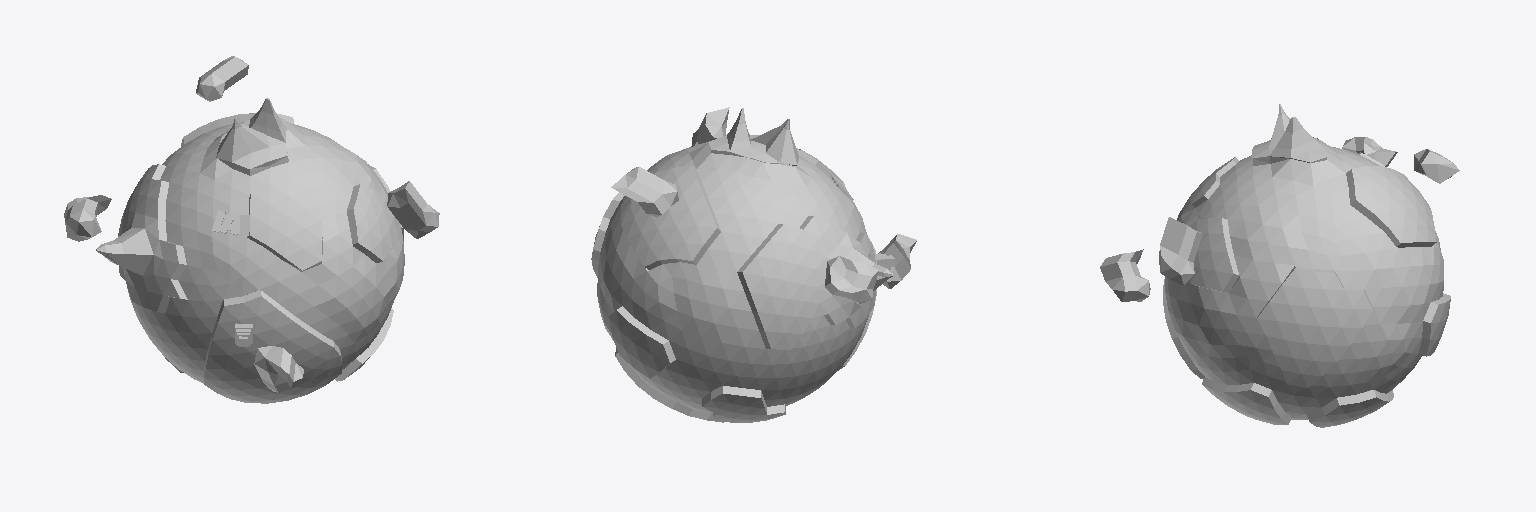
Rendered from earth.obj.
The picture shows the model from 3 angles: view 1: azimuth 30°, elevation 25°; view 2: azimuth 150°, elevation 25°; view 3: azimuth 270°, elevation 25°; orthographic projection.
Parts seen in each view (by area): view 1: Icosphere, Icosphere.004_Icosphere.005, Icosphere.003_Icosphere.004, Icosphere.002_Icosphere.003, Icosphere.001_Icosphere.002, Cube_Cube.003; view 2: Icosphere, Icosphere.001_Icosphere.002, Icosphere.002_Icosphere.003, Icosphere.003_Icosphere.004, Icosphere.004_Icosphere.005; view 3: Icosphere, Icosphere.004_Icosphere.005, Icosphere.003_Icosphere.004, Icosphere.001_Icosphere.002, Icosphere.002_Icosphere.003.
Boxes of the visible parts, x1,y1,x2,y2 form: Icosphere: [96, 98, 404, 403]; Icosphere.004_Icosphere.005: [387, 181, 439, 238]; Icosphere.003_Icosphere.004: [254, 346, 303, 392]; Icosphere.002_Icosphere.003: [64, 195, 111, 241]; Icosphere.001_Icosphere.002: [196, 56, 248, 101]; Cube_Cube.003: [212, 210, 249, 236]; Icosphere: [591, 108, 893, 422]; Icosphere.001_Icosphere.002: [611, 167, 678, 217]; Icosphere.002_Icosphere.003: [825, 256, 878, 304]; Icosphere.003_Icosphere.004: [878, 233, 916, 288]; Icosphere.004_Icosphere.005: [691, 107, 729, 146]; Icosphere: [1163, 104, 1450, 427]; Icosphere.004_Icosphere.005: [1159, 217, 1202, 284]; Icosphere.003_Icosphere.004: [1100, 249, 1150, 301]; Icosphere.001_Icosphere.002: [1414, 149, 1459, 183]; Icosphere.002_Icosphere.003: [1342, 137, 1397, 166].
Bounding box in the file's own units: 0.9308 × 0.899 × 0.9927.